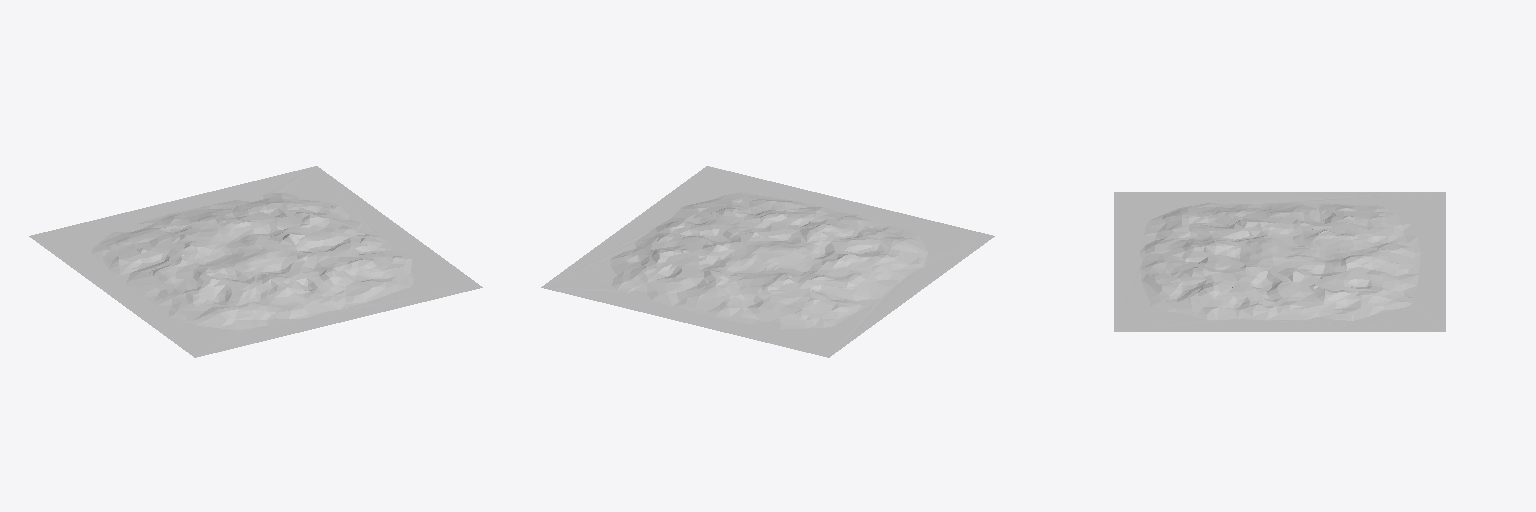
File: small-island.obj
3 views of the same model, side by side, from view 1: azimuth 30°, elevation 25°; view 2: azimuth 150°, elevation 25°; view 3: azimuth 270°, elevation 25° (orthographic).
Parts seen in each view (by area): view 1: Landscape.002; view 2: Landscape.002; view 3: Landscape.002.
Part boxes in pixels (x1,y1,x2,y2): Landscape.002: (29, 166, 482, 357); Landscape.002: (541, 166, 994, 357); Landscape.002: (1114, 192, 1445, 331).
Size of the model in its own units: 600 by 23.95 by 600.